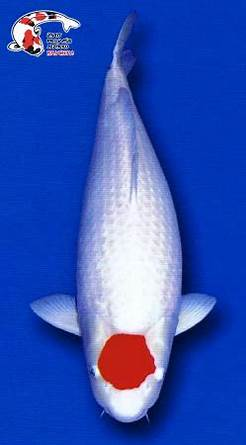sun: (29, 9, 218, 422)
